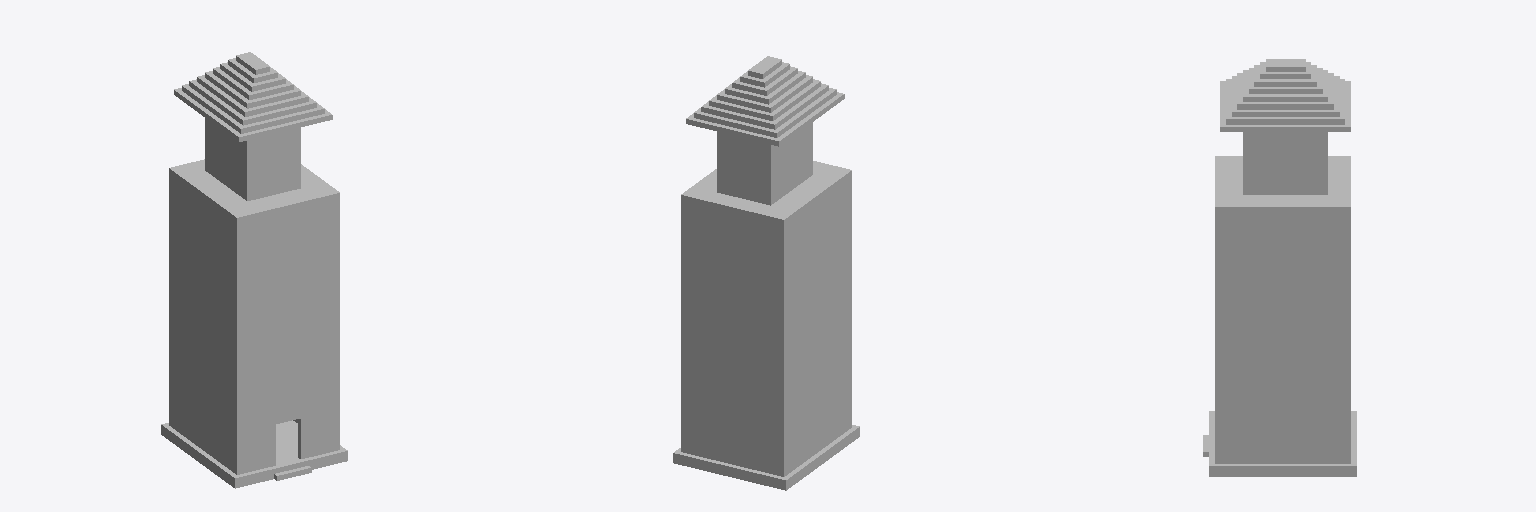
Rendered from light.obj.
3 renders of one model, left to right at view 1: azimuth 30°, elevation 25°; view 2: azimuth 150°, elevation 25°; view 3: azimuth 270°, elevation 25°, orthographic.
Visible parts, largest first — view 1: object 1; view 2: object 1; view 3: object 1.
Part boxes in pixels (x1,y1,x2,y2): object 1: (161, 52, 347, 488); object 1: (673, 56, 859, 490); object 1: (1203, 59, 1356, 476).
Size of the model in its own units: 2.3 by 7.5 by 2.7.